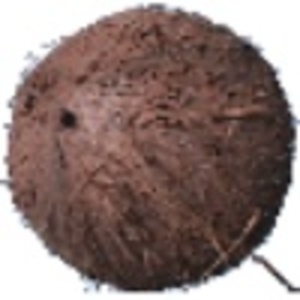coco: (1, 4, 300, 295)
